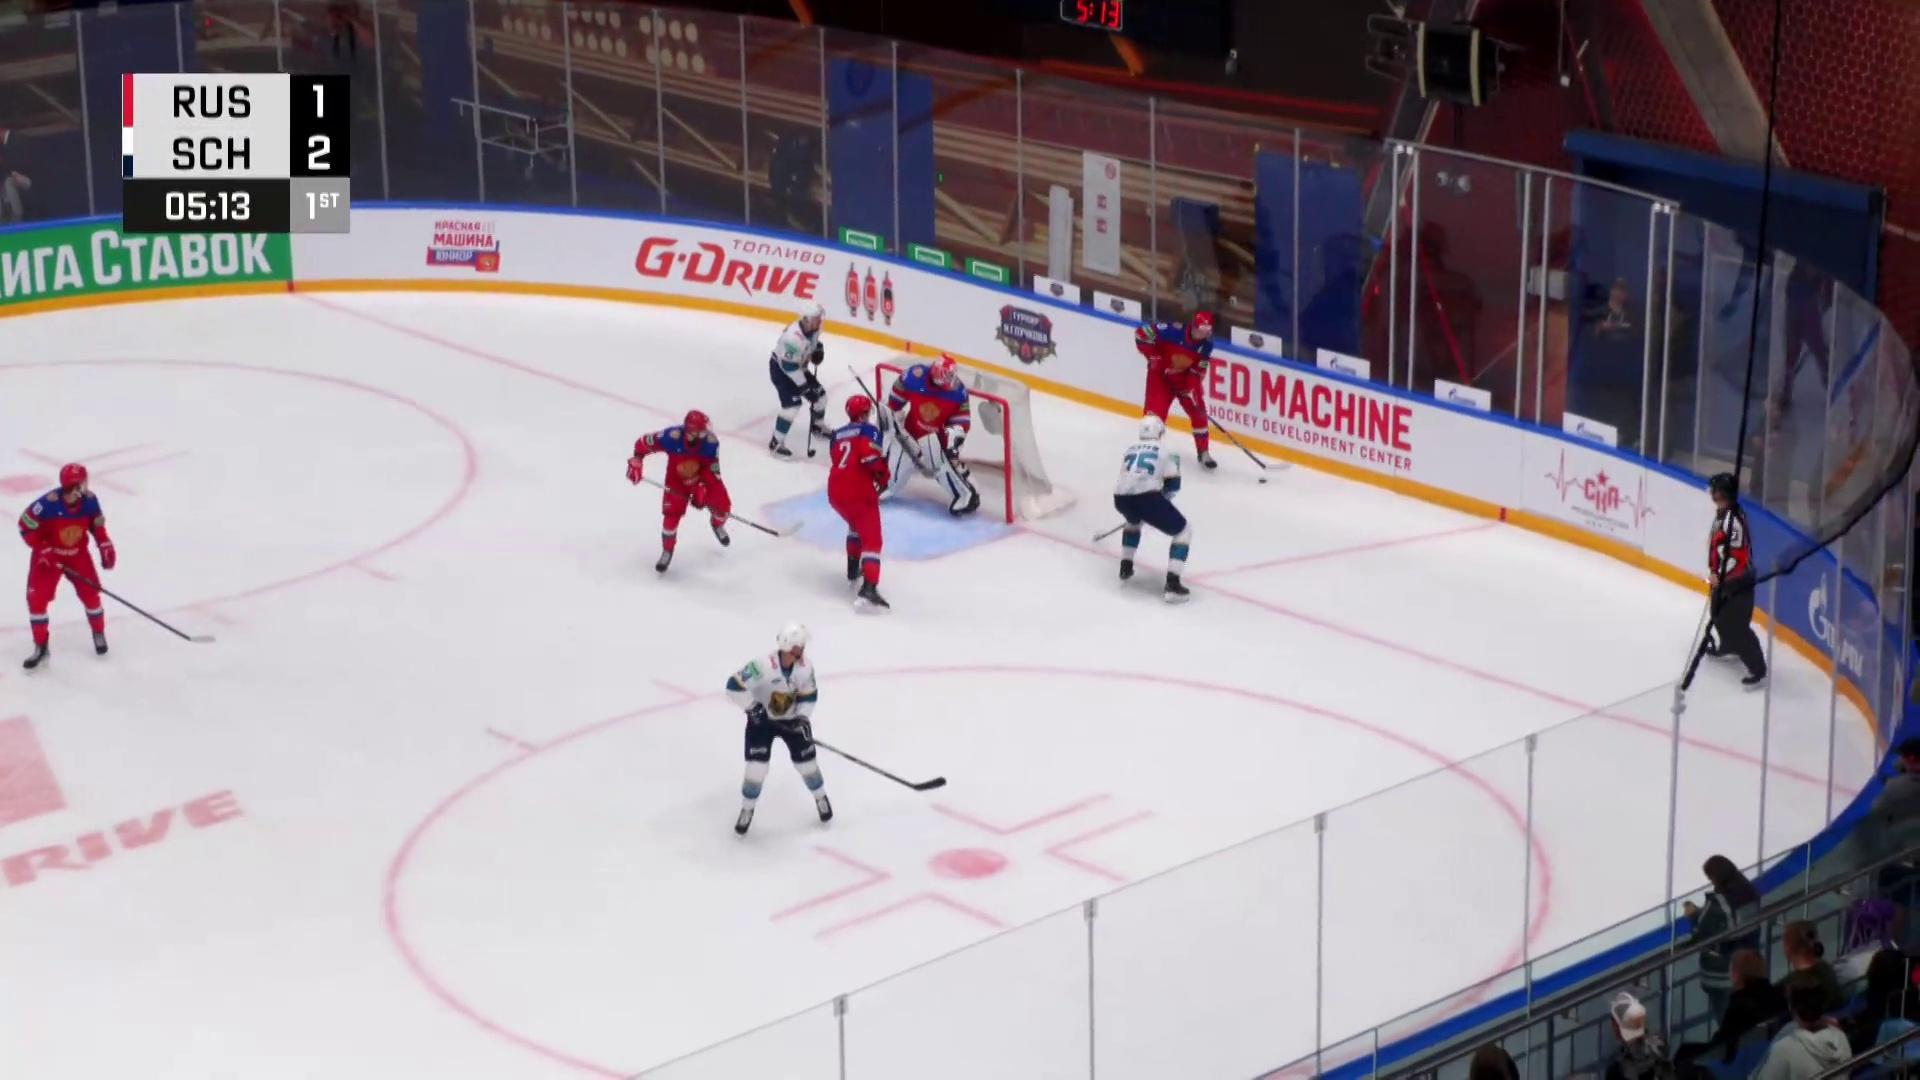ball: (1258, 477, 1267, 484)
